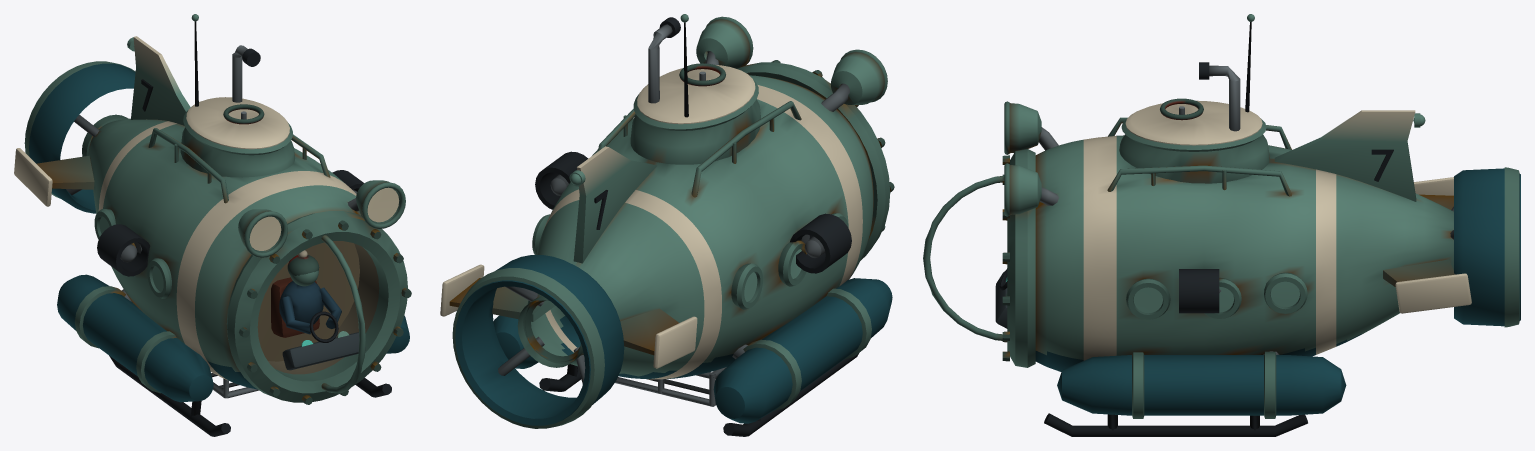
The model's file is perch.glb.
The picture shows the model from 3 angles, left to right: view 1: azimuth 30°, elevation 25°; view 2: azimuth 150°, elevation 25°; view 3: azimuth 270°, elevation 25°; orthographic projection. The views are drawn at different scales.
Parts seen in each view (by area): view 1: perch; view 2: perch; view 3: perch.
Part boxes in pixels (x1,y1,x2,y2): perch: (14,14,411,436); perch: (440,14,894,436); perch: (923,14,1520,436).
Bounding box in the file's own units: 3.16 × 4.04 × 5.89.
